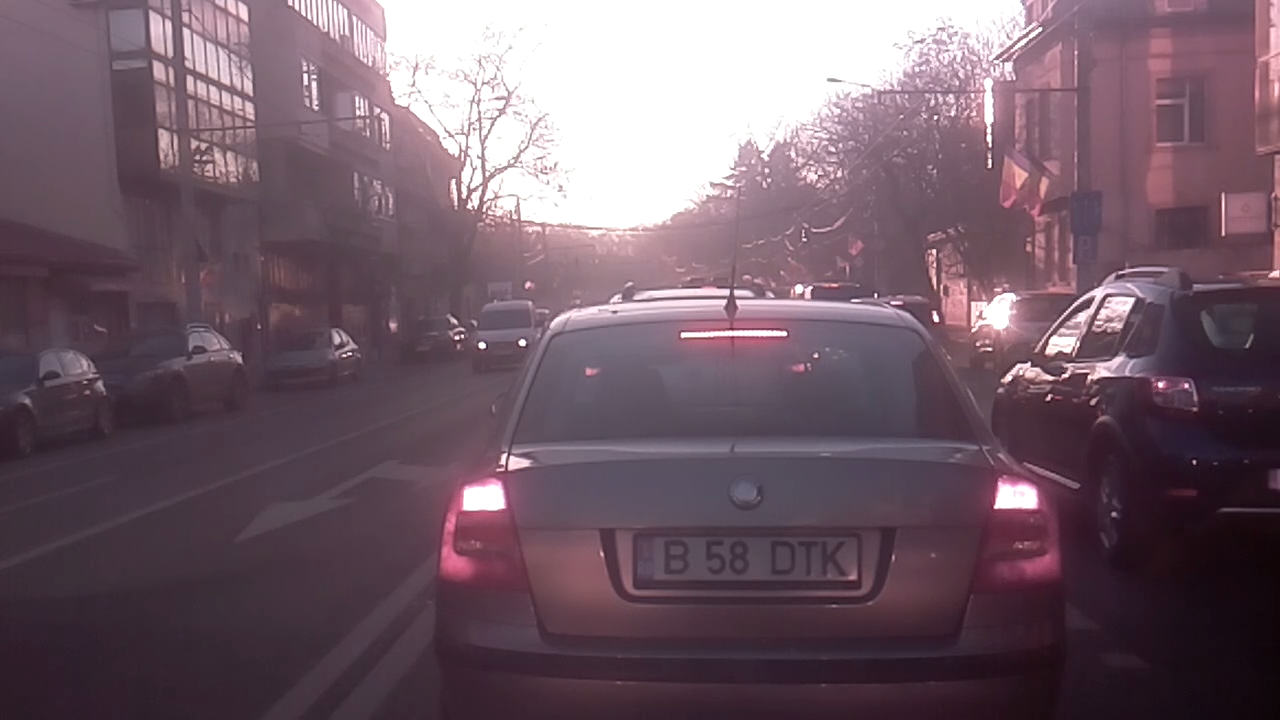license-plate: (626, 529, 866, 593)
